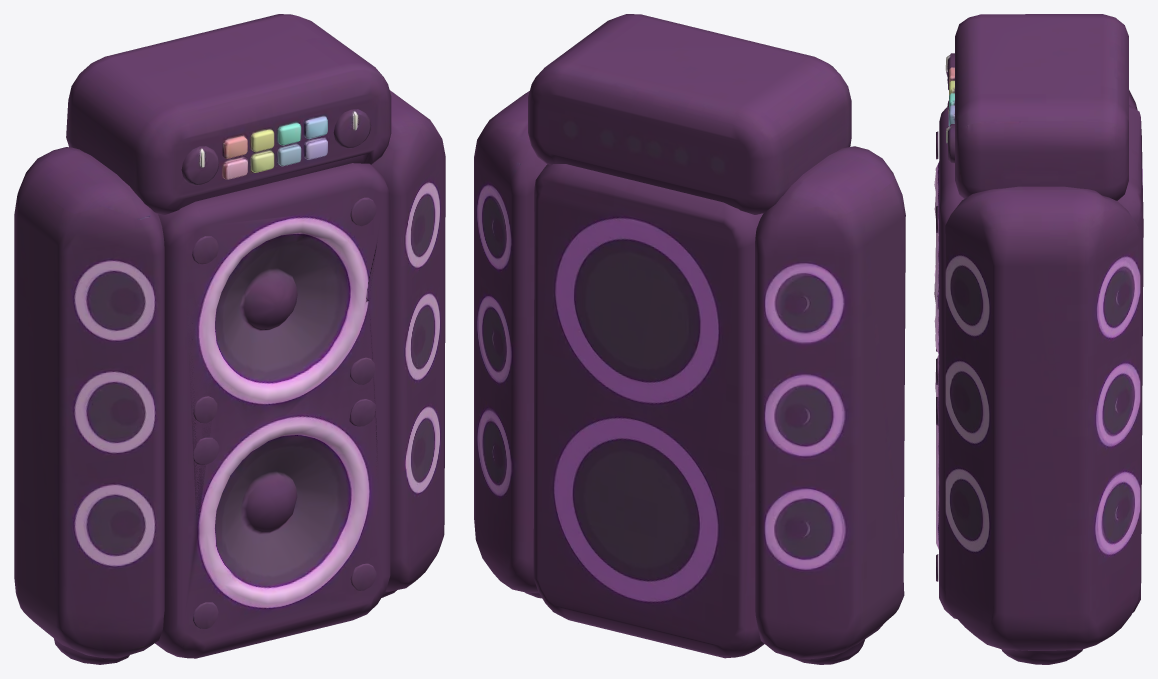
File: club-speaker-tower.glb
3 renders of one model, left to right at view 1: azimuth 30°, elevation 25°; view 2: azimuth 150°, elevation 25°; view 3: azimuth 270°, elevation 25°, orthographic. The views are drawn at different scales.
Size of the model in its own units: 0.687 by 0.9521 by 0.3375.
1 material, 1 textured.
